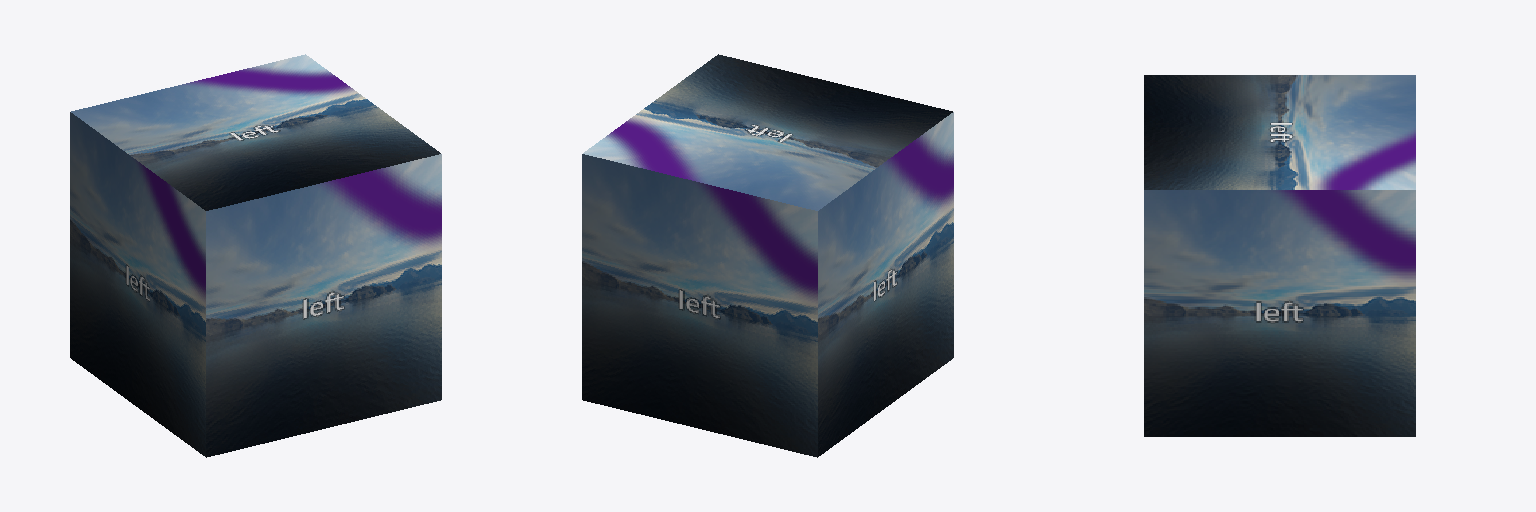
3 views of the same model, side by side, from view 1: azimuth 30°, elevation 25°; view 2: azimuth 150°, elevation 25°; view 3: azimuth 270°, elevation 25° (orthographic).
Parts seen in each view (by area): view 1: cube; view 2: cube; view 3: cube.
Part boxes in pixels (x1,y1,x2,y2): cube: (70, 54, 441, 457); cube: (582, 54, 953, 457); cube: (1144, 75, 1415, 436).
Size of the model in its own units: 1 by 1 by 1.
Materials: 6 (1 with a texture image).